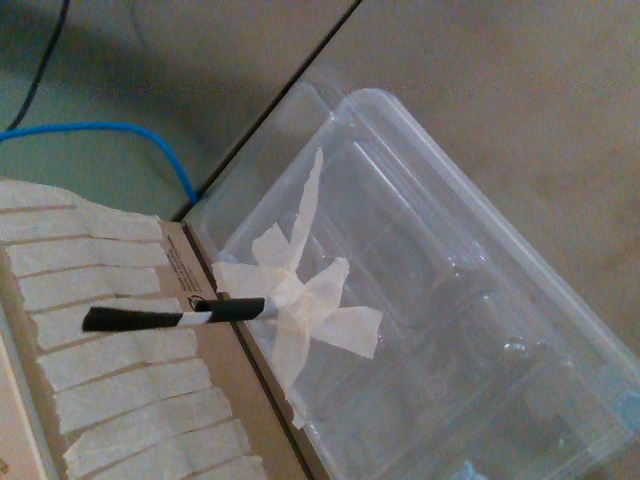test_strip: (81, 304, 207, 332)
